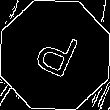P_SW: (28, 24, 82, 86)
